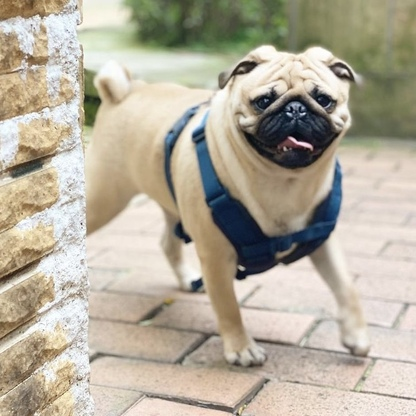Pug: (80, 40, 377, 372)
